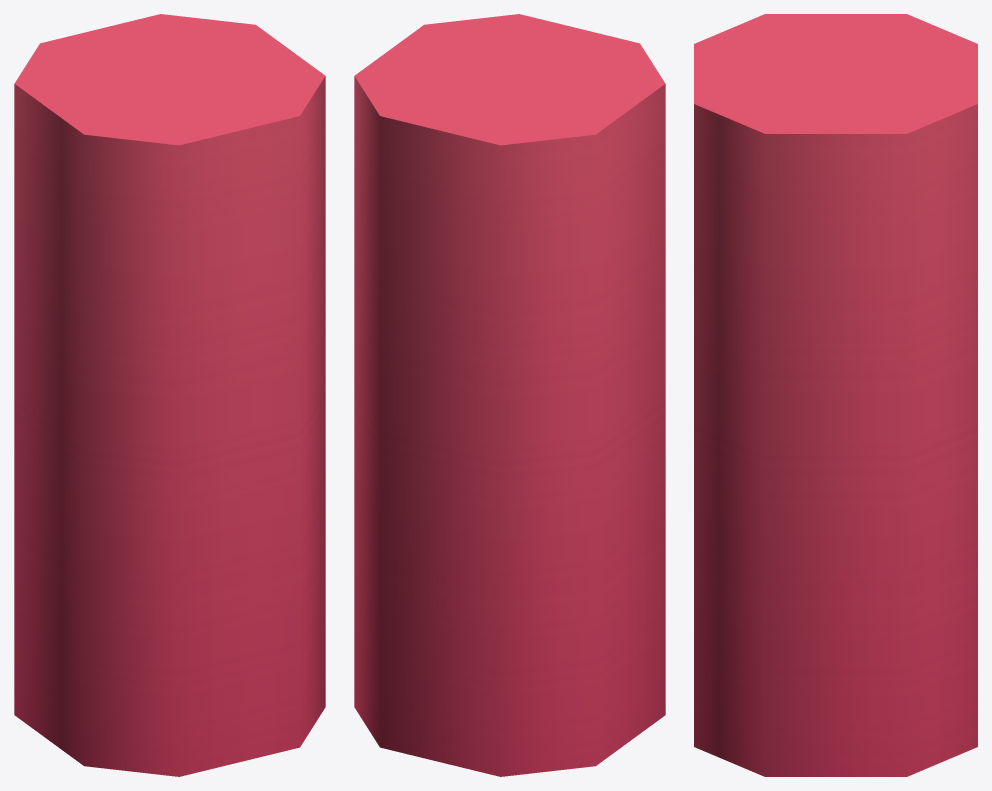
The model's file is support.fbx.
3 views of the same model, side by side, from view 1: azimuth 30°, elevation 25°; view 2: azimuth 150°, elevation 25°; view 3: azimuth 270°, elevation 25° (orthographic).
Parts seen in each view (by area): view 1: support; view 2: support; view 3: support.
Boxes of the visible parts, left/top/right/bottom form: support: left=14, top=14, right=325, bottom=776; support: left=354, top=14, right=665, bottom=776; support: left=694, top=14, right=977, bottom=776.
Bounding box in the file's own units: 40 × 100 × 40.
